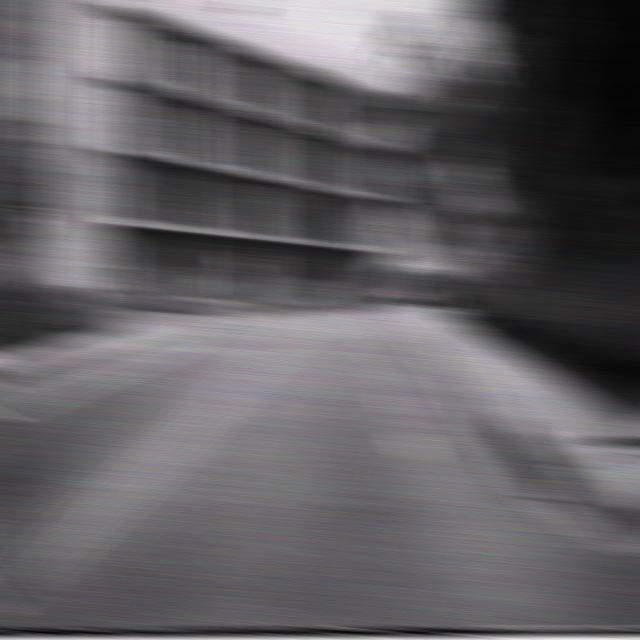stop_sign: (434, 215, 472, 251)
